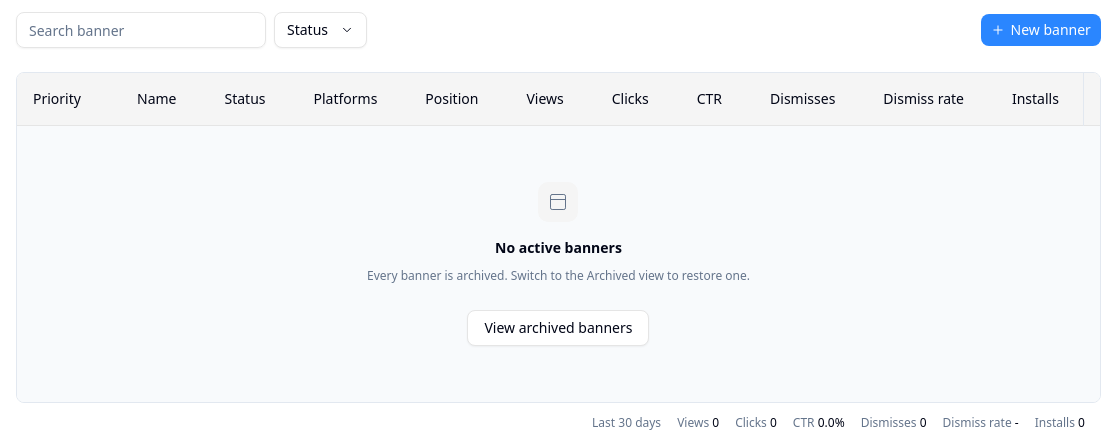
Scenario: SmartBannersPage list › hints at the Archived view instead of the create-first-banner CTA when every banner is archived
Check: the text "Every banner is archived" is shown, box [367,267,750,284]
Click the button "View archived banners": {"x": 558, "y": 328} [467,310,649,346]
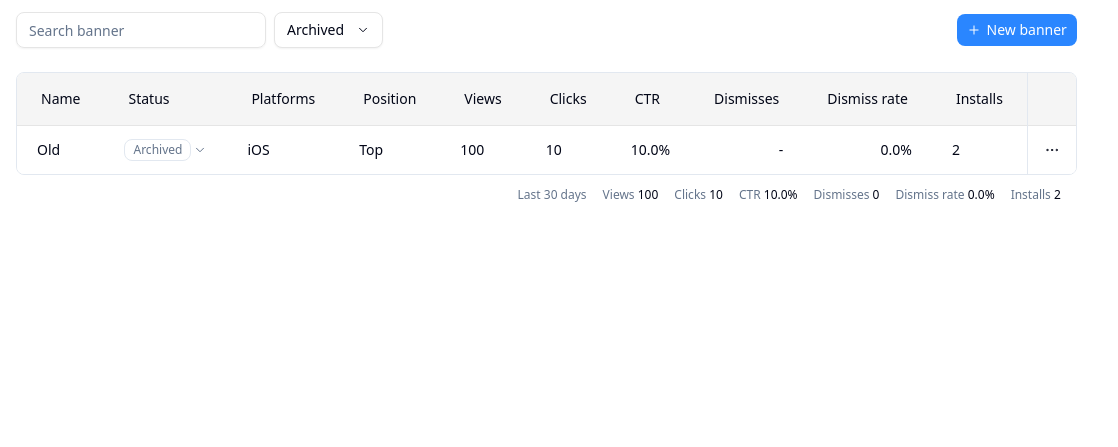
Check: the button with aria-label "Status: Archived" is shown, box [274,12,383,48]
Check: the number of rows with test id "smart-banner-row" is 1, box [17,126,1076,174]
